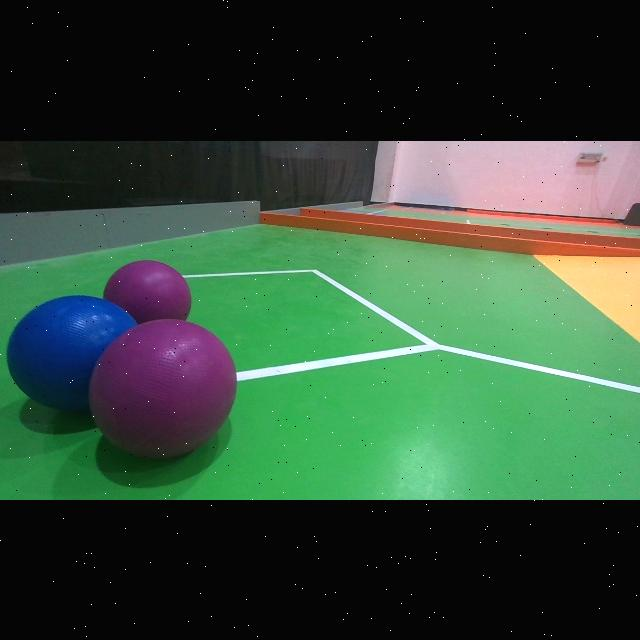B: (7, 294, 138, 410)
P: (88, 318, 236, 458), (104, 262, 194, 331)
